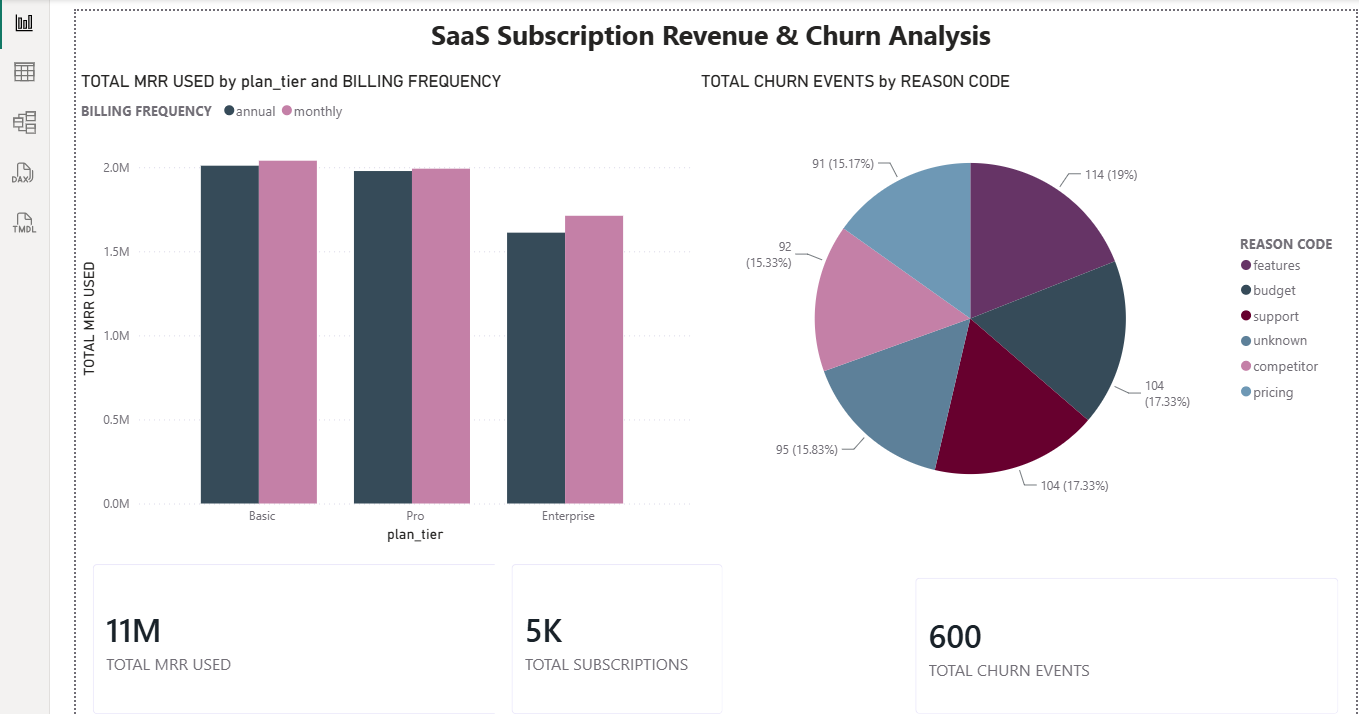

The page's visual inventory and layout, read from the dashboard file:
{"tool":"powerbi","page":{"name":"Page 1","canvas":[1280,720],"ordinal":0},"visuals":[{"type":"textbox","box":[349.9,0,580.4,68.6],"z":0},{"type":"cardVisual","fields":{"Data":["Sum(vw_subscriptions_revenue.total_mrr_usd)"]},"box":[0,535.9,553.1,184.4],"z":1},{"type":"cardVisual","fields":{"Data":["Sum(vw_churn_by_reason.total_churn_events)"]},"box":[821.9,550,457.8,170.3],"z":3},{"type":"cardVisual","fields":{"Data":["Sum(vw_subscriptions_revenue.total_subscriptions)"]},"box":[418.8,535.9,245.3,184.4],"z":4},{"type":"clusteredColumnChart","fields":{"Y":["Sum(vw_subscriptions_revenue.total_mrr_usd)"],"Series":["vw_subscriptions_revenue.billing_frequency"],"Category":["vw_subscriptions_revenue.plan_tier"]},"box":[0,60,620,476.2],"z":5},{"type":"pieChart","fields":{"Category":["vw_churn_by_reason.reason_code"],"Y":["Sum(vw_churn_by_reason.total_churn_events)"]},"box":[620,60,660,476.2],"z":6}]}

Visuals, with their boxes on the page's 1280x720 design canvas (x1, y1, x2, y2). These are canvas units, not pixel positions in the 1359x714 screenshot, which may show the page scaled, cropped or inside an application window:
textbox: rect(350, 0, 930, 69)
cardVisual - Sum(vw_subscriptions_revenue.total_mrr_usd): rect(0, 536, 553, 720)
cardVisual - Sum(vw_churn_by_reason.total_churn_events): rect(822, 550, 1280, 720)
cardVisual - Sum(vw_subscriptions_revenue.total_subscriptions): rect(419, 536, 664, 720)
clusteredColumnChart - Sum(vw_subscriptions_revenue.total_mrr_usd) x vw_subscriptions_revenue.billing_frequency: rect(0, 60, 620, 536)
pieChart - vw_churn_by_reason.reason_code x Sum(vw_churn_by_reason.total_churn_events): rect(620, 60, 1280, 536)
